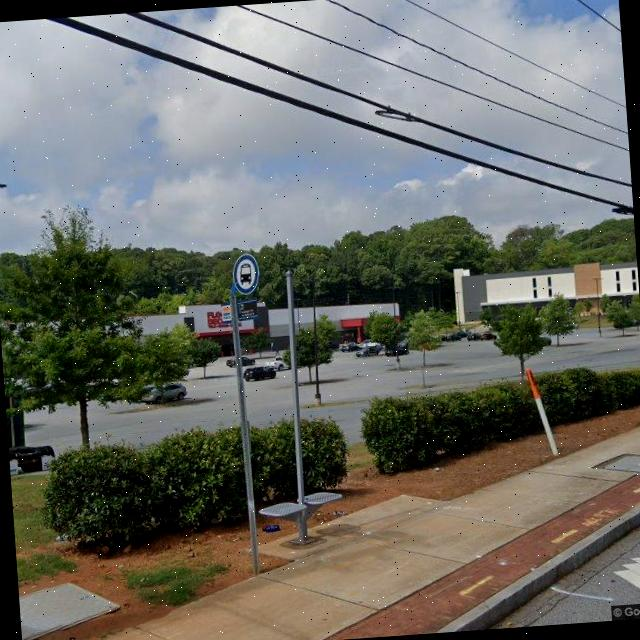seating: (256, 489, 344, 524)
